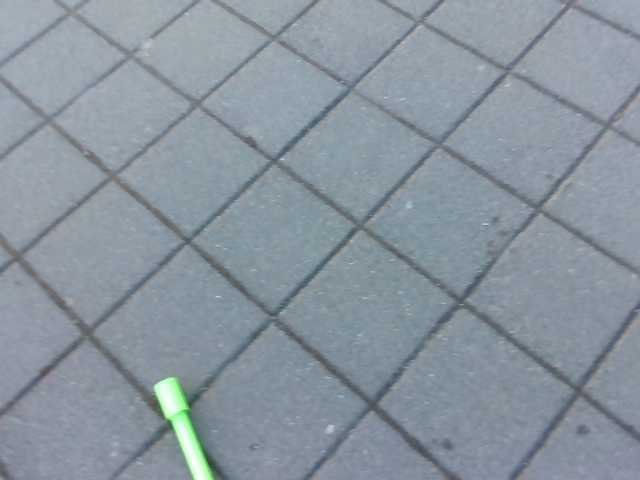Probe: (150, 372, 222, 480)
